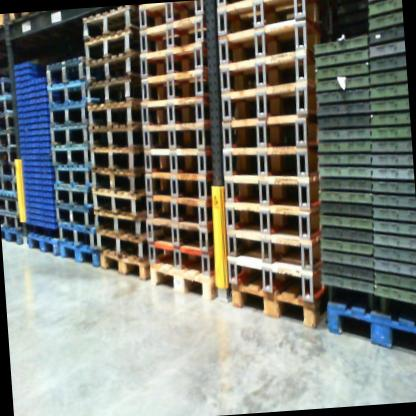pallet: (215, 14, 348, 68), (219, 194, 324, 258), (224, 249, 329, 310), (223, 219, 329, 279), (324, 292, 416, 360), (219, 166, 326, 220), (215, 0, 330, 47), (230, 279, 324, 336), (219, 136, 327, 185), (212, 50, 324, 96), (144, 209, 231, 268), (222, 110, 321, 159), (134, 17, 222, 67), (219, 83, 317, 127), (148, 256, 221, 313), (138, 162, 215, 211), (142, 236, 229, 278), (136, 40, 222, 81), (137, 69, 218, 111), (136, 92, 220, 132), (138, 120, 217, 161), (142, 189, 219, 230), (134, 1, 217, 39), (98, 243, 156, 294), (138, 144, 218, 177), (93, 204, 147, 246), (79, 8, 136, 47), (88, 142, 149, 177), (93, 225, 146, 265), (81, 30, 137, 66), (91, 186, 145, 223), (91, 168, 145, 205), (82, 50, 144, 82), (40, 53, 90, 91), (88, 100, 142, 135), (81, 74, 140, 104), (88, 122, 143, 154), (60, 236, 101, 278), (46, 162, 93, 197), (53, 219, 98, 255), (46, 120, 92, 154), (48, 179, 94, 212), (48, 140, 95, 172), (46, 76, 89, 109), (46, 96, 88, 129), (54, 197, 95, 230), (28, 229, 61, 262), (6, 12, 55, 28), (0, 172, 22, 201), (2, 208, 26, 234), (2, 225, 26, 249), (0, 196, 25, 215), (0, 110, 21, 132), (0, 148, 27, 163), (0, 164, 19, 182), (0, 96, 17, 116), (0, 134, 20, 149), (0, 77, 15, 93), (0, 15, 10, 37)
